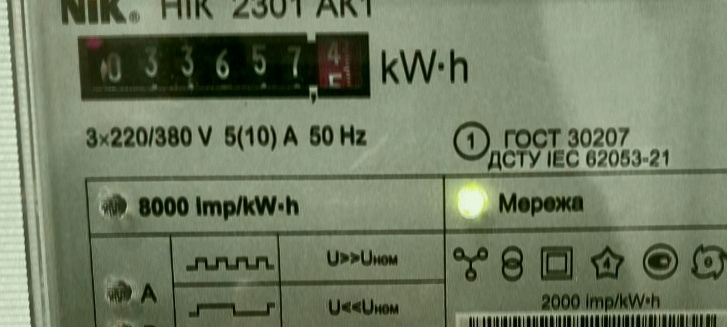0: (102, 48, 123, 85)
3: (140, 44, 159, 79), (176, 43, 194, 78)
4: (323, 38, 342, 68)
5: (246, 41, 268, 77)
6: (210, 46, 230, 81)
7: (283, 43, 301, 79)
screen: (63, 25, 377, 108)
